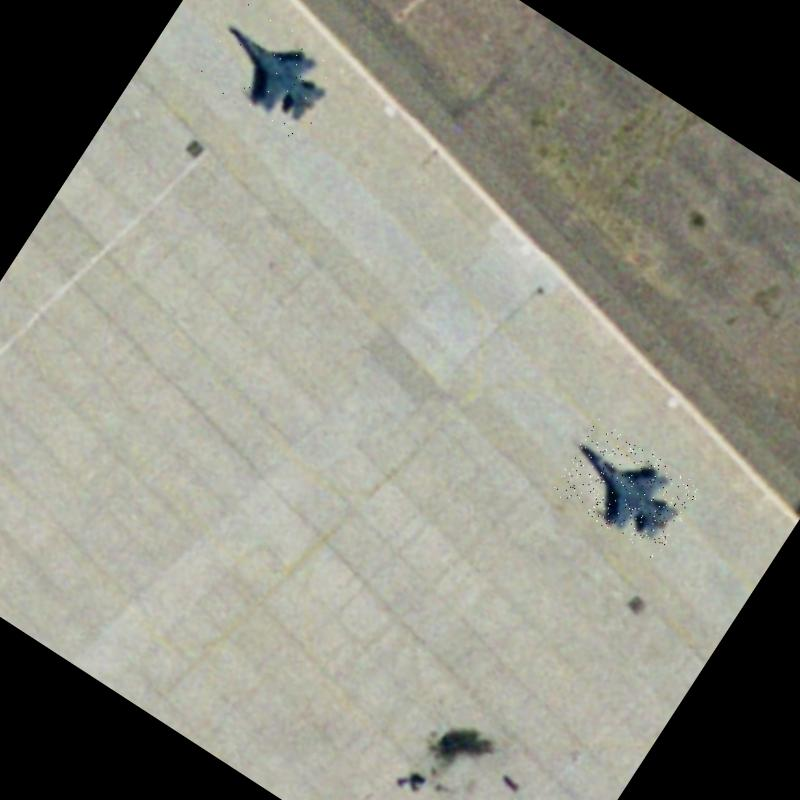A5: (196, 0, 350, 145), (549, 418, 703, 561)
